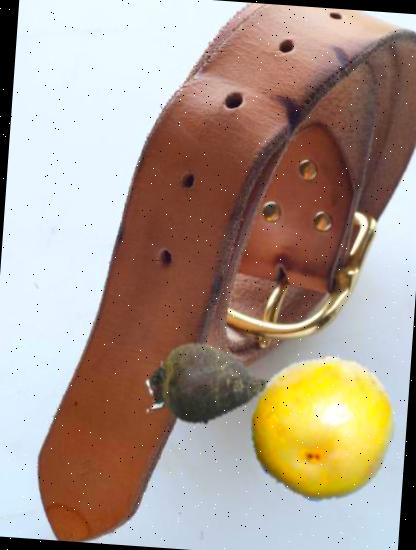Beetroot: (134, 303, 288, 458)
Maracuja: (242, 350, 398, 506)
